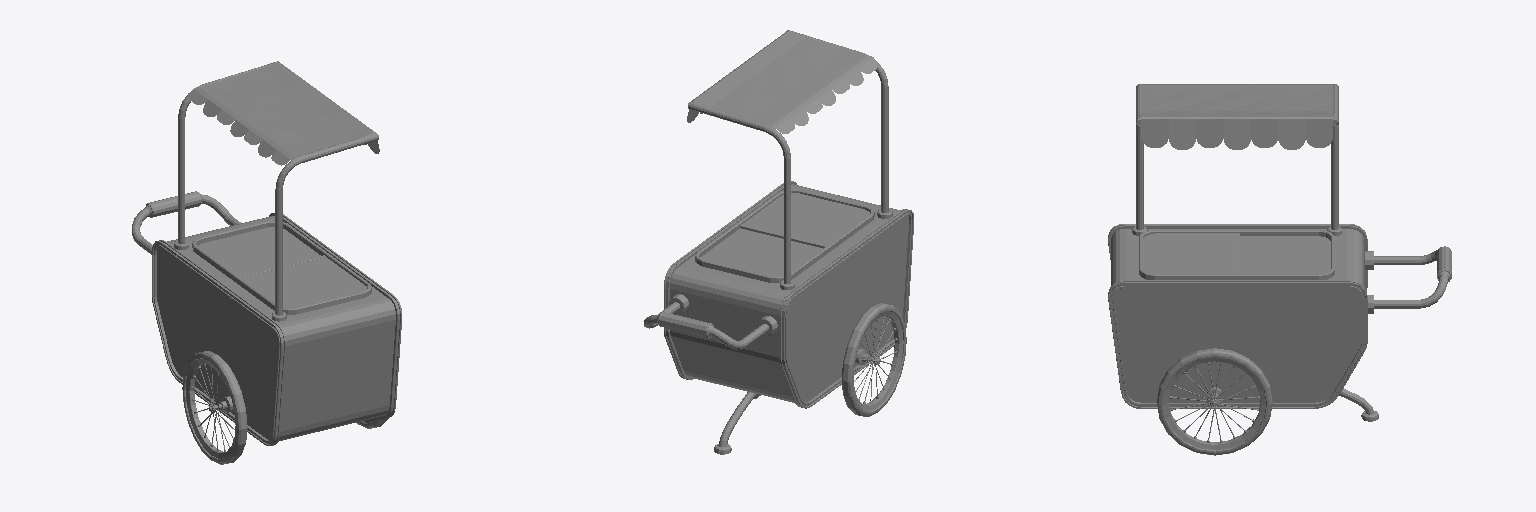
The model's file is carro.obj.
3 renders of one model, left to right at view 1: azimuth 30°, elevation 25°; view 2: azimuth 150°, elevation 25°; view 3: azimuth 270°, elevation 25°, orthographic.
Visible parts, largest first — view 1: cara_ic_01; view 2: cara_ic_01; view 3: cara_ic_01.
Boxes of the visible parts, x1,y1,x2,y2 form: cara_ic_01: [132, 61, 401, 464]; cara_ic_01: [644, 30, 913, 454]; cara_ic_01: [1108, 84, 1451, 455].
Size of the model in its own units: 37.5 by 73.81 by 70.65.